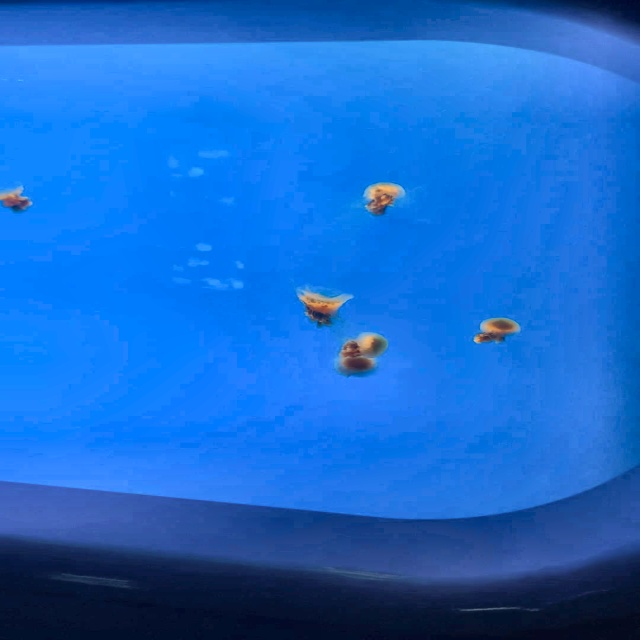jellyfish: (293, 284, 354, 328), (335, 330, 389, 378), (358, 182, 407, 218), (473, 315, 523, 345), (0, 183, 39, 215)
